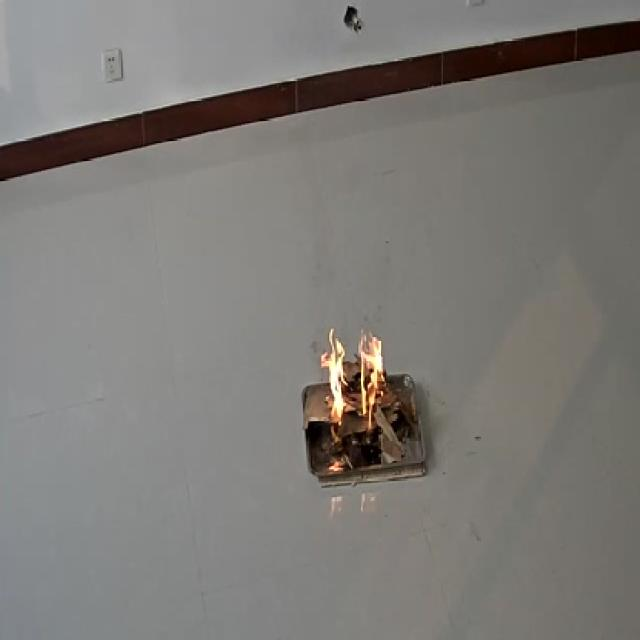Fire: (313, 318, 399, 444)
